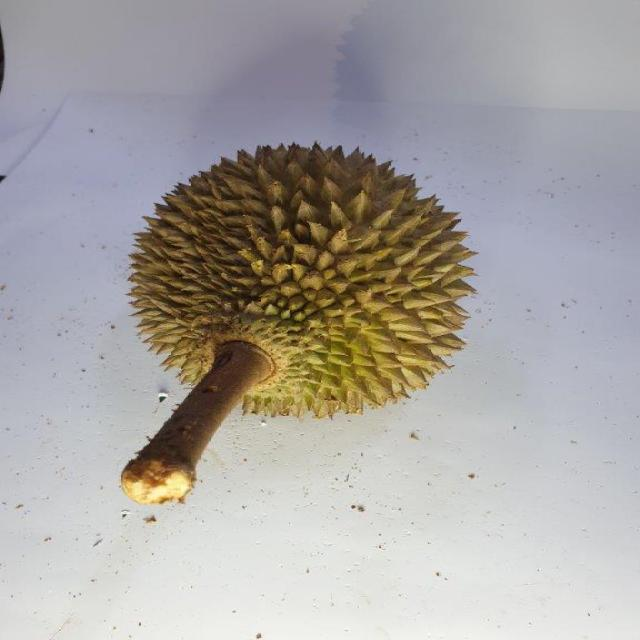mature: (120, 139, 477, 414)
